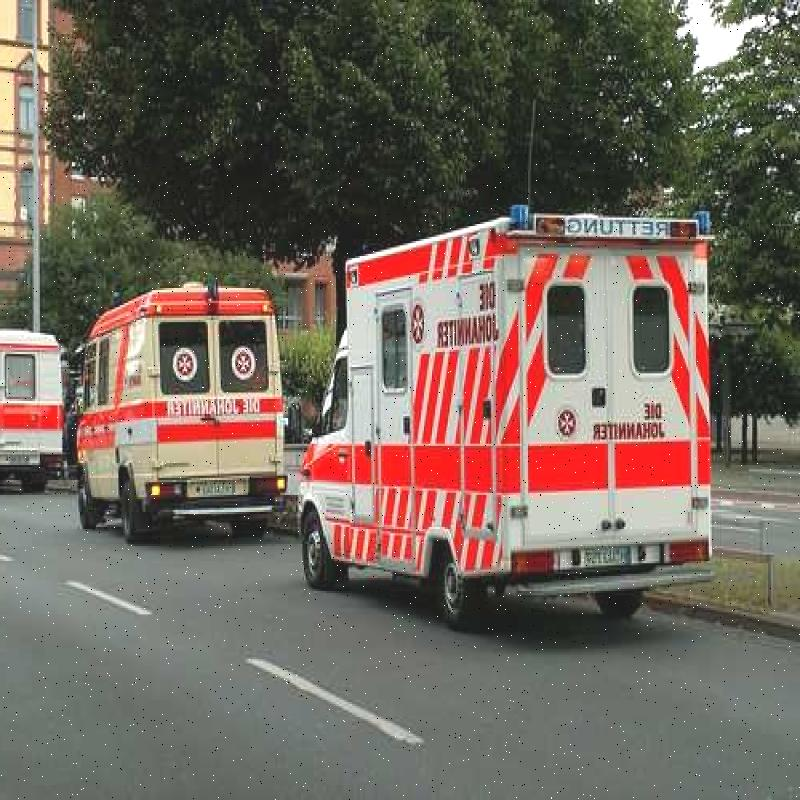AmbulanceSiren: (496, 189, 707, 249)
